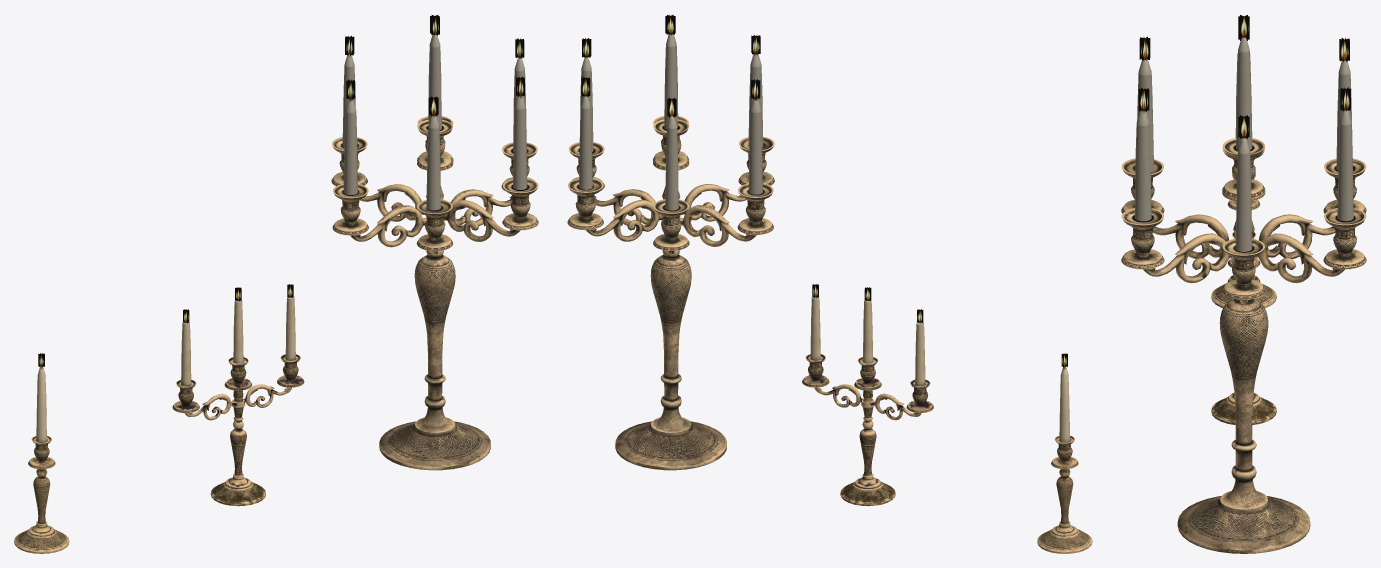
File: ph_brass_candleholders.glb
3 views of the same model, side by side, from view 1: azimuth 30°, elevation 25°; view 2: azimuth 150°, elevation 25°; view 3: azimuth 270°, elevation 25° (orthographic). The views are drawn at different scales.
Visible parts, largest first — view 1: brass_candleholder_03, brass_candleholder_02, brass_candleholder_01; view 2: brass_candleholder_03, brass_candleholder_02, brass_candleholder_01; view 3: brass_candleholder_03, brass_candleholder_02, brass_candleholder_01.
Part boxes in pixels (left/top/right/bottom): brass_candleholder_03: left=331, top=15, right=538, bottom=470; brass_candleholder_02: left=172, top=284, right=304, bottom=506; brass_candleholder_01: left=14, top=353, right=69, bottom=553; brass_candleholder_03: left=567, top=14, right=774, bottom=470; brass_candleholder_02: left=802, top=284, right=933, bottom=505; brass_candleholder_01: left=1037, top=353, right=1092, bottom=553; brass_candleholder_03: left=1121, top=15, right=1366, bottom=553; brass_candleholder_02: left=1211, top=232, right=1276, bottom=425; brass_candleholder_01: left=1211, top=174, right=1276, bottom=307.
Size of the model in its own units: 1.05 by 0.8353 by 0.3646.
Materials: 5 (5 with a texture image).
